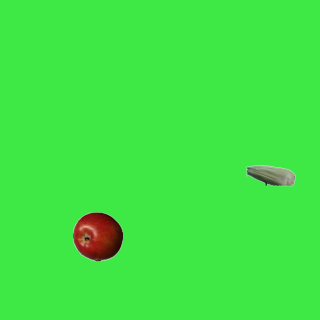Apple Braeburn: (72, 211, 122, 261)
Corn Husk: (245, 150, 295, 200)
